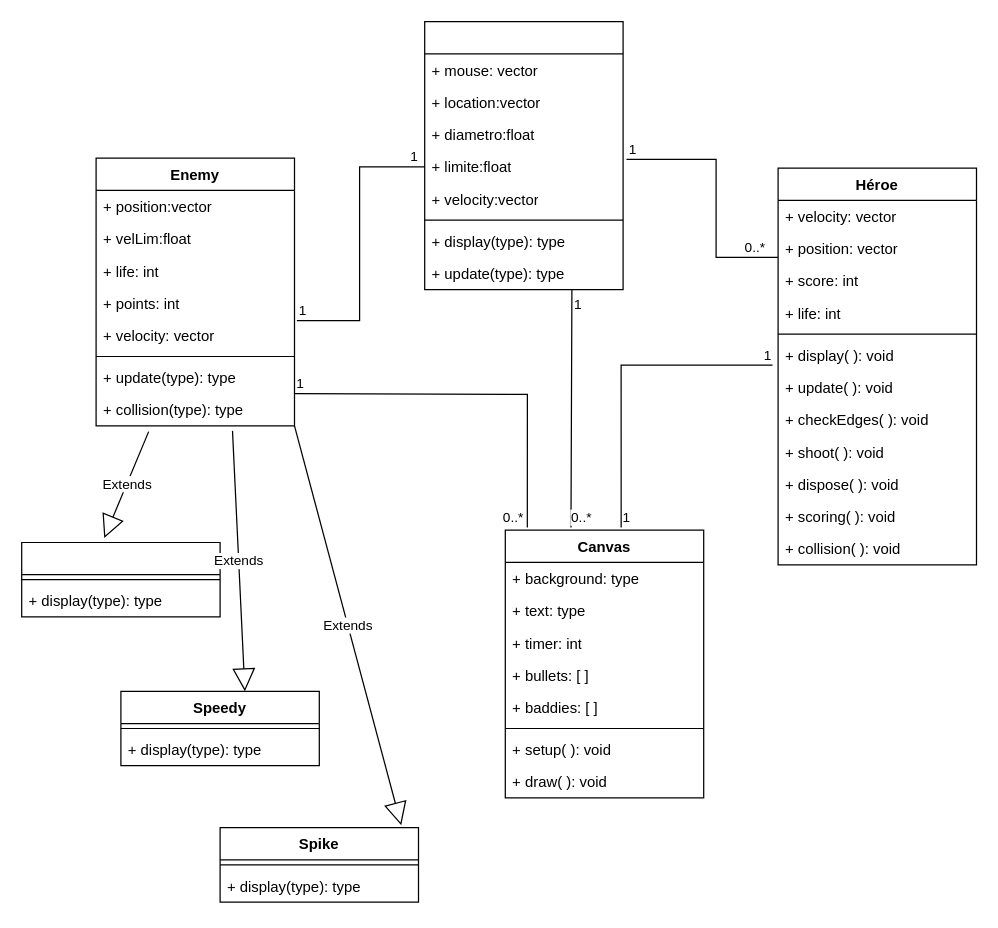
Image size: 998x928. Some labels were removed from this diagram. The shapes that lost their labels are listed below. From the top down, each one's box as (x1, y1, x2, y2) in pixels, then its label:
(423, 20, 623, 290): Bullet
(20, 541, 220, 617): Rainbow
